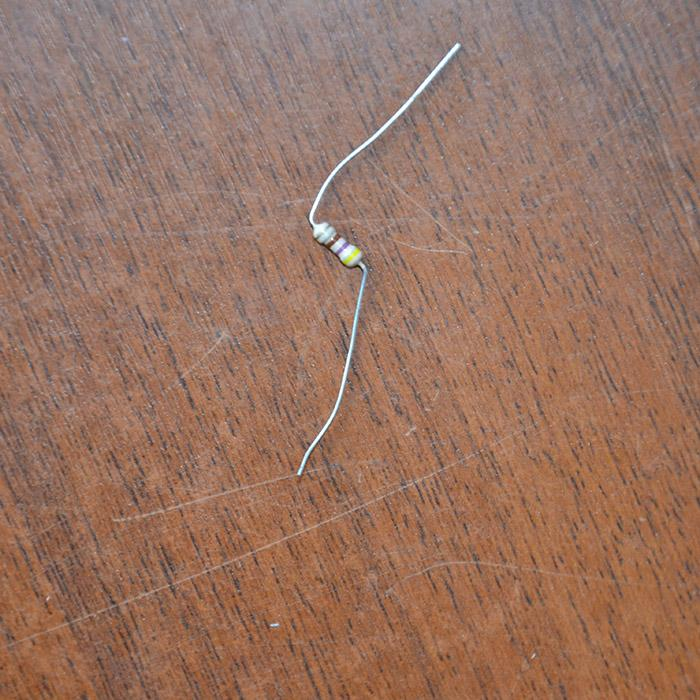resistor: (310, 219, 364, 272)
